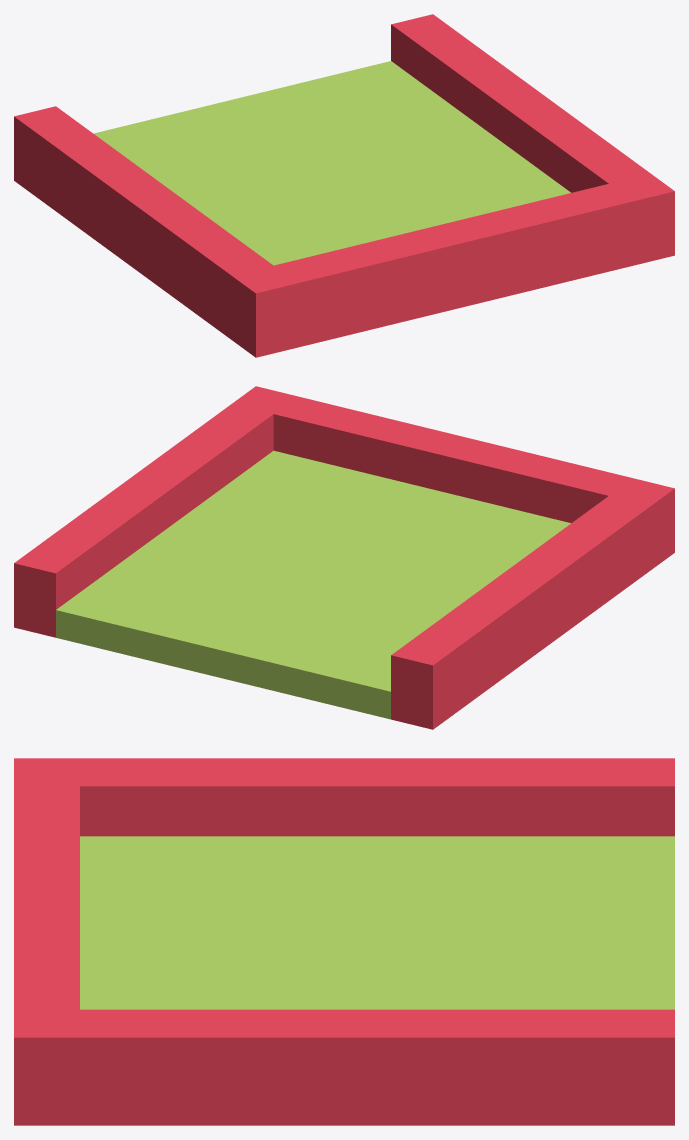
Rendered from end.fbx.
3 renders of one model, top to bottom at view 1: azimuth 30°, elevation 25°; view 2: azimuth 150°, elevation 25°; view 3: azimuth 270°, elevation 25°, orthographic. The views are drawn at different scales.
Parts seen in each view (by area): view 1: end; view 2: end; view 3: end.
Boxes of the visible parts, x1,y1,x2,y2 form: end: [14, 14, 674, 357]; end: [14, 386, 674, 729]; end: [14, 758, 674, 1125].
Size of the model in its own units: 10 by 1.47 by 10.
